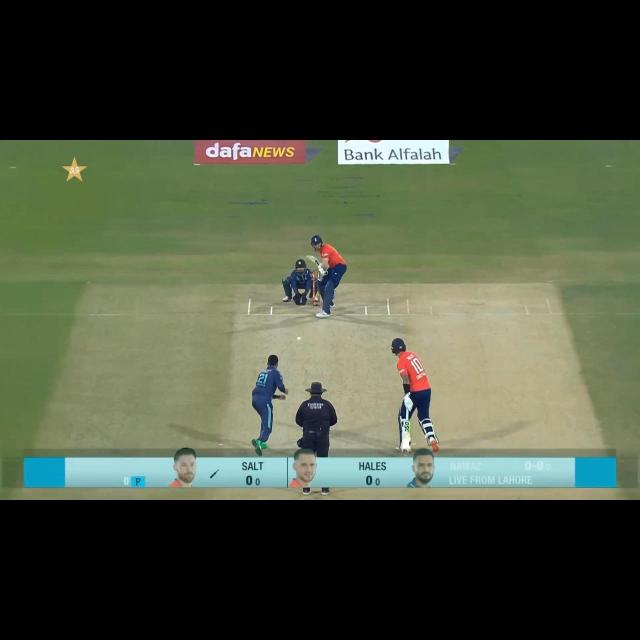bat: (400, 418, 411, 452), (305, 254, 321, 266)
toe: (400, 446, 410, 454), (306, 254, 314, 259)
